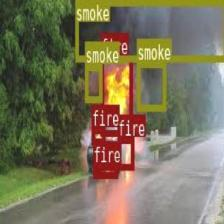smoke: (74, 0, 224, 61), (136, 60, 166, 110), (84, 62, 102, 102)
